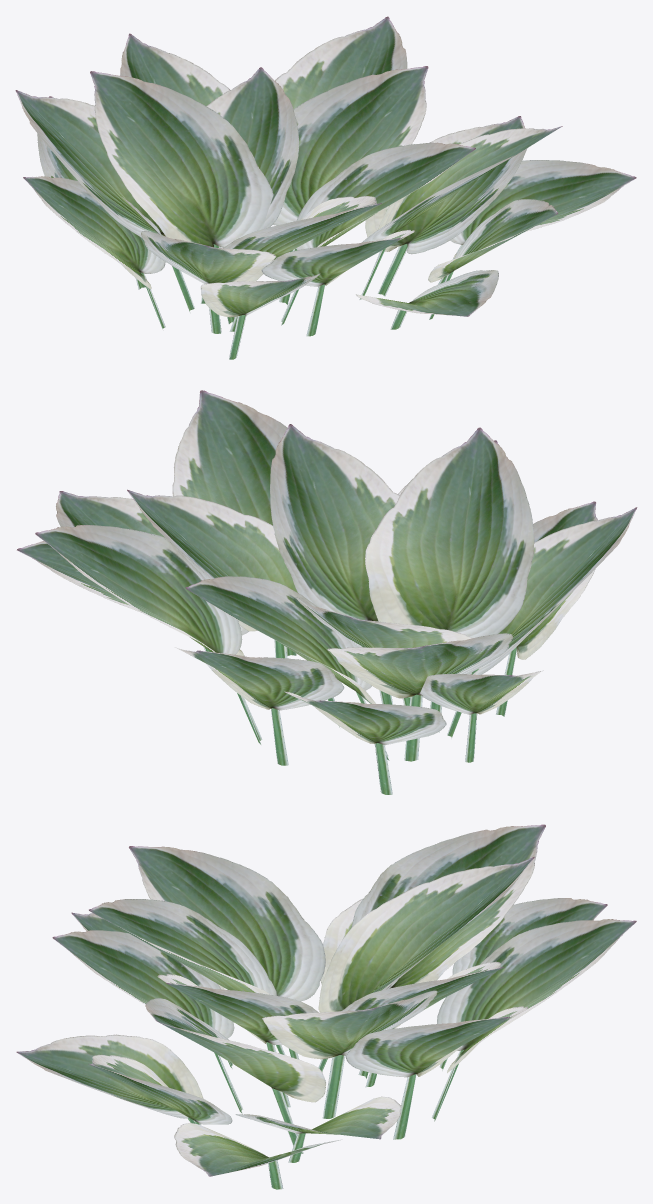
File: plant_small_wg_04M.fbx
3 views of the same model, one above another, from view 1: azimuth 30°, elevation 25°; view 2: azimuth 150°, elevation 25°; view 3: azimuth 270°, elevation 25° (orthographic). The views are drawn at different scales.
Visible parts, largest first — view 1: plant_small_wg_04M; view 2: plant_small_wg_04M; view 3: plant_small_wg_04M.
Boxes of the visible parts, x1,y1,x2,y2 form: plant_small_wg_04M: (15,16,636,359); plant_small_wg_04M: (17,390,637,794); plant_small_wg_04M: (16,824,636,1189).
Bounding box in the file's own units: 124 × 44.3 × 120.
